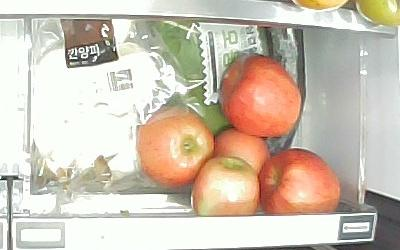apple: (220, 53, 302, 140), (138, 106, 215, 188), (260, 147, 342, 214), (192, 157, 261, 215), (212, 128, 270, 175)
